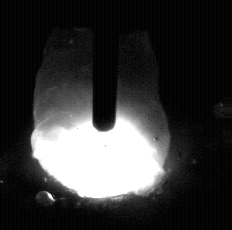arame: (93, 0, 118, 132)
poca: (30, 0, 171, 230)
